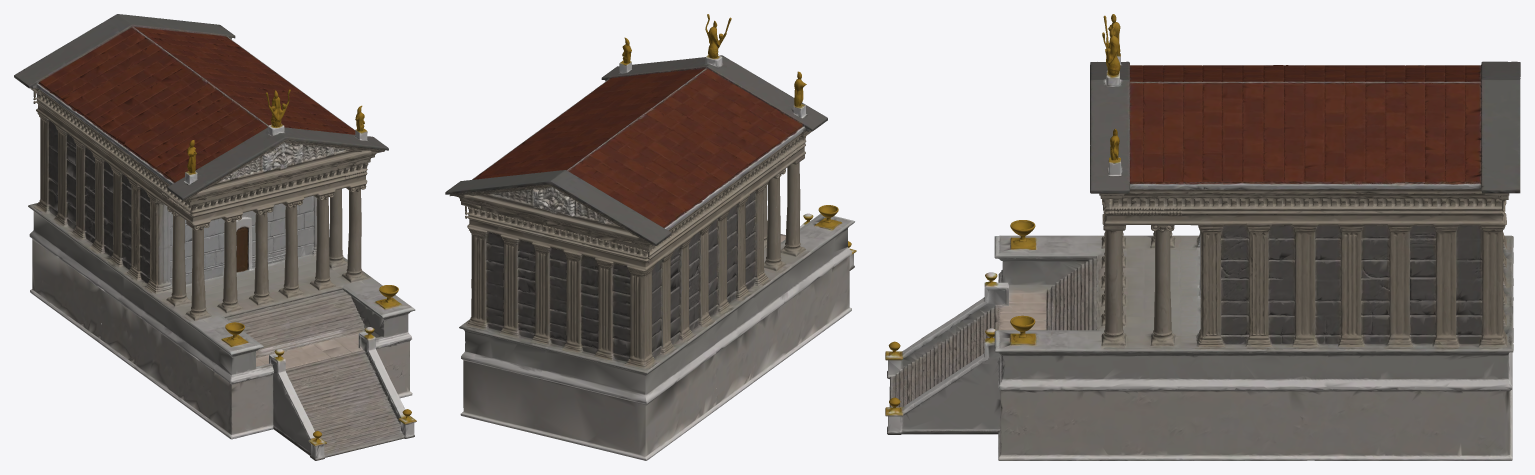
File: Temple_of_Saturn_Rome.min.glb
3 views of the same model, side by side, from view 1: azimuth 30°, elevation 25°; view 2: azimuth 150°, elevation 25°; view 3: azimuth 270°, elevation 25° (orthographic). The views are drawn at different scales.
Parts seen in each view (by area): view 1: tripo_node_93e48024-646f-4cad-b9c6-59b2ea93cd9a; view 2: tripo_node_93e48024-646f-4cad-b9c6-59b2ea93cd9a; view 3: tripo_node_93e48024-646f-4cad-b9c6-59b2ea93cd9a.
Part boxes in pixels (x1=…): tripo_node_93e48024-646f-4cad-b9c6-59b2ea93cd9a: x1=14, y1=14, x2=416, y2=460; tripo_node_93e48024-646f-4cad-b9c6-59b2ea93cd9a: x1=445, y1=14, x2=856, y2=460; tripo_node_93e48024-646f-4cad-b9c6-59b2ea93cd9a: x1=885, y1=14, x2=1520, y2=460.
Bounding box in the file's own units: 0.4716 × 0.6511 × 0.9841.
Materials: 1 (1 with a texture image).
